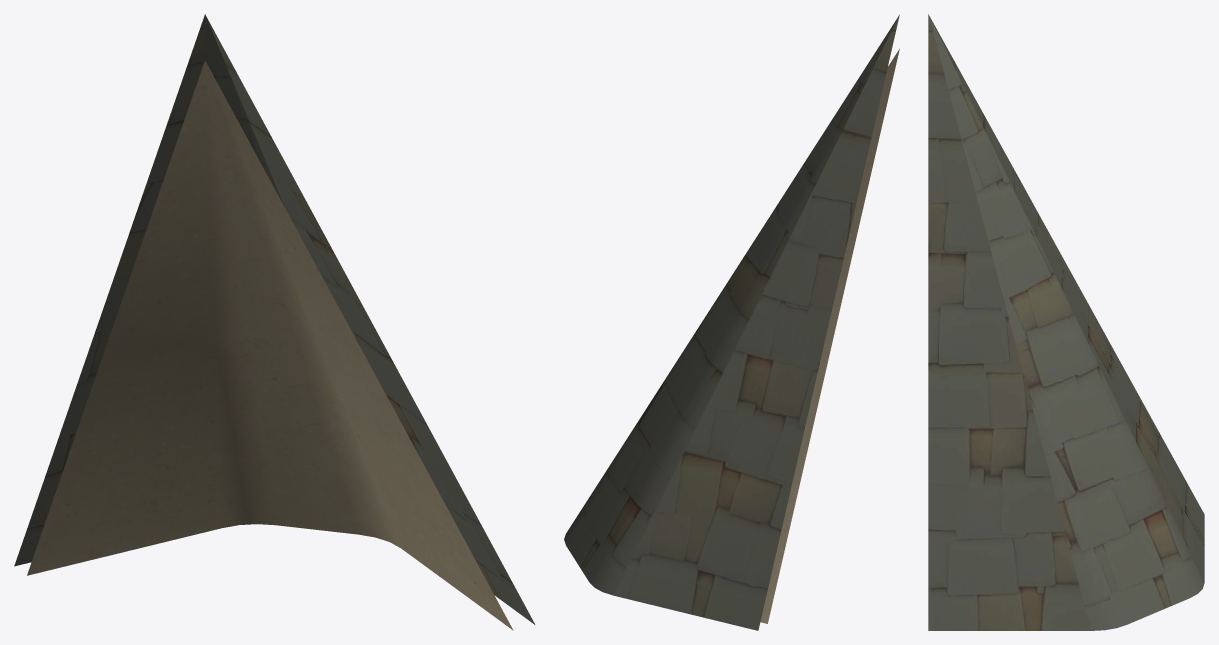
Rendered from ARC0510006.fbx.
3 views of the same model, side by side, from view 1: azimuth 30°, elevation 25°; view 2: azimuth 150°, elevation 25°; view 3: azimuth 270°, elevation 25° (orthographic). The views are drawn at different scales.
Parts seen in each view (by area): view 1: smARC0510006; view 2: smARC0510006; view 3: smARC0510006.
Boxes of the visible parts, x1,y1,x2,y2 form: smARC0510006: [14, 14, 535, 630]; smARC0510006: [564, 14, 899, 630]; smARC0510006: [928, 14, 1204, 630].
Size of the model in its own units: 150 by 300 by 150.
1 material, 1 textured.
